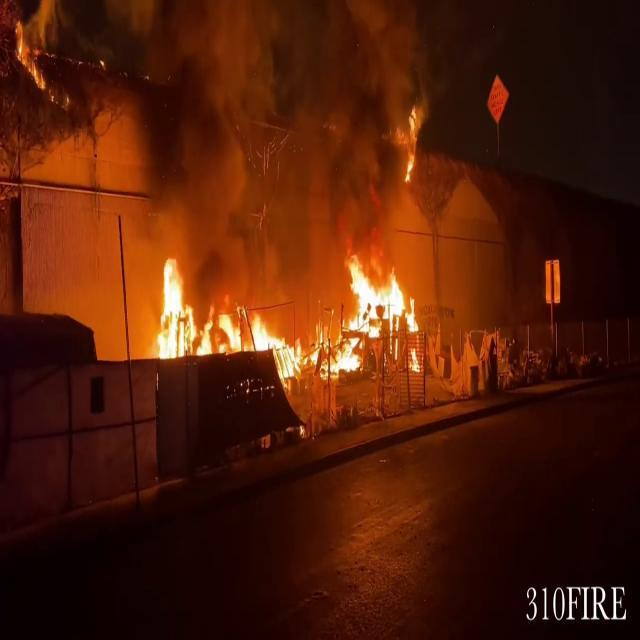Fire: (147, 244, 426, 386), (145, 252, 213, 362), (398, 100, 428, 193)
Smoke: (11, 0, 432, 276)
